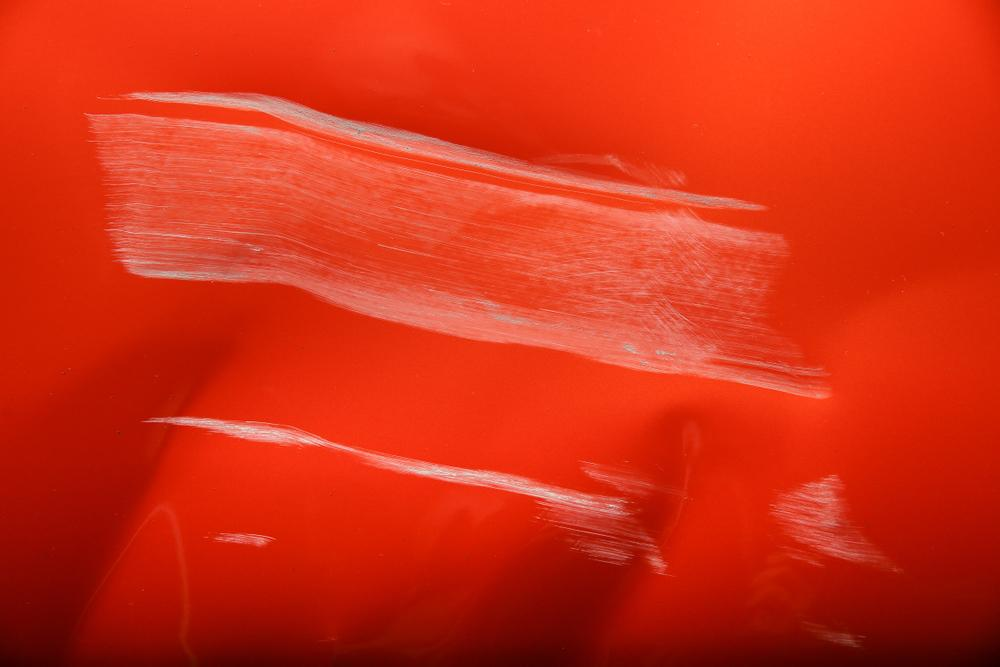dent: (0, 319, 289, 667), (548, 406, 748, 662)
scratch: (74, 71, 844, 402), (138, 416, 691, 571), (770, 468, 901, 580)
